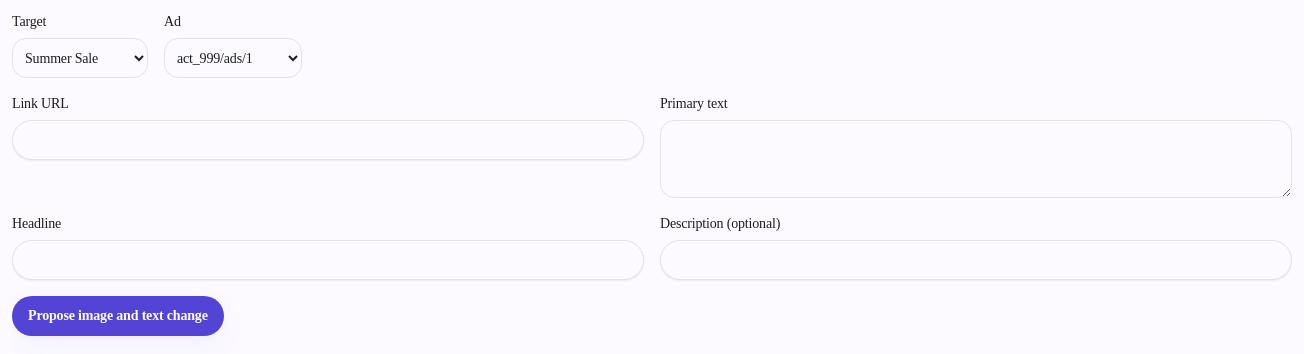
it: AutomationProposeMetaAdCreativeEditForm › shows an inline error and does not submit when primary text, headline, or link URL is missing
Step 1. Click the button "Propose image and text change" → point(118, 316), box [12,296,224,336]
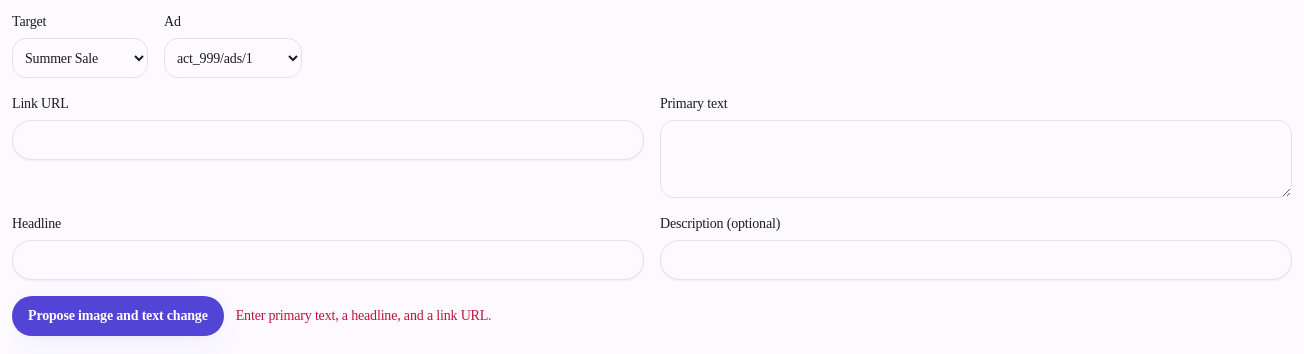
Expected: the message reads "Enter primary text, a headline, and a link URL.", [236,308,491,323]
